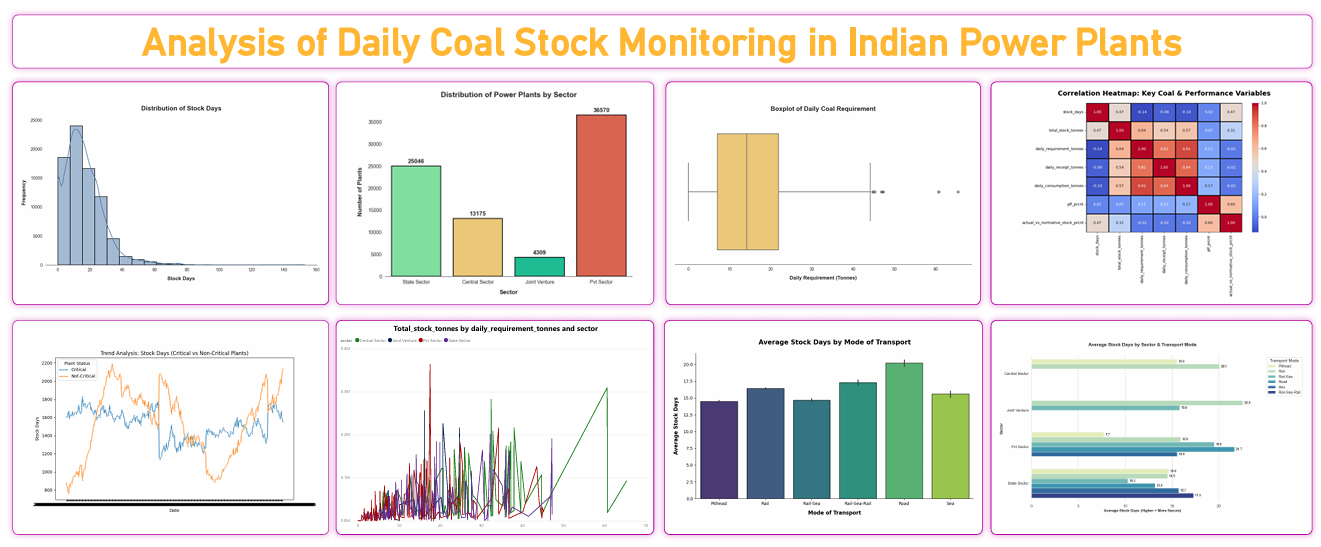

This screenshot's page, from the dashboard's own definition file:
{"tool":"powerbi","page":{"name":"Dashboard 3","canvas":[3350,1400],"ordinal":2},"visuals":[{"type":"pythonVisual","fields":{"Values":["df.stock_days","df.id"]},"box":[25,208.3,804.2,566.7],"z":0},{"type":"pythonVisual","fields":{"Values":["df.sector","df.id","df.power_station_name"]},"box":[845.8,208.3,808.3,566.7],"z":1000},{"type":"pythonVisual","fields":{"Values":["df.date","Sum(df.id)","df.is_critical","Sum(df.stock_days)"]},"box":[25,812.5,804.2,545.8],"z":2000},{"type":"pythonVisual","fields":{"Values":["df.daily_requirement_tonnes","df.id"]},"box":[1683.3,208.3,800,566.7],"z":3000},{"type":"lineChart","title":"Total_stock_tonnes by daily_requirement_tonnes and sector","fields":{"Category":["df.daily_requirement_tonnes"],"Y":["Sum(df.total_stock_tonnes)"],"Series":["df.sector"]},"box":[845.8,812.5,808.3,545.8],"z":4000},{"type":"pythonVisual","fields":{"Values":["df.mode_of_transport","df.stock_days","df.id"]},"box":[1679.2,812.5,808.3,545.8],"z":5000},{"type":"pythonVisual","fields":{"Values":["df.id","df.stock_days","df.total_stock_tonnes","df.daily_requirement_tonnes","df.daily_receipt_tonnes","df.daily_consumption_tonnes","df.plf_prcnt","df.actual_vs_normative_stock_prcnt"]},"box":[2508.3,208.3,816.7,566.7],"z":6000},{"type":"pythonVisual","fields":{"Values":["df.id","df.sector","df.mode_of_transport","df.stock_days"]},"box":[2508.3,812.5,816.7,545.8],"z":7000},{"type":"textbox","box":[25,37.5,3300,137.5],"z":8000}]}

Visuals, with their boxes in screenshot pixels (x1, y1, x2, y2), scaled from the page's 3350x1400 canvas onto the 1321x547 screenshot:
pythonVisual - df.stock_days x df.id: [10,81,327,303]
pythonVisual - df.sector x df.id: [334,81,652,303]
pythonVisual - df.date x Sum(df.id): [10,317,327,531]
pythonVisual - df.daily_requirement_tonnes x df.id: [664,81,979,303]
"Total_stock_tonnes by daily_requirement_tonnes and sector" lineChart: [334,317,652,531]
pythonVisual - df.mode_of_transport x df.stock_days: [662,317,981,531]
pythonVisual - df.id x df.stock_days: [989,81,1311,303]
pythonVisual - df.id x df.sector: [989,317,1311,531]
textbox: [10,15,1311,68]
